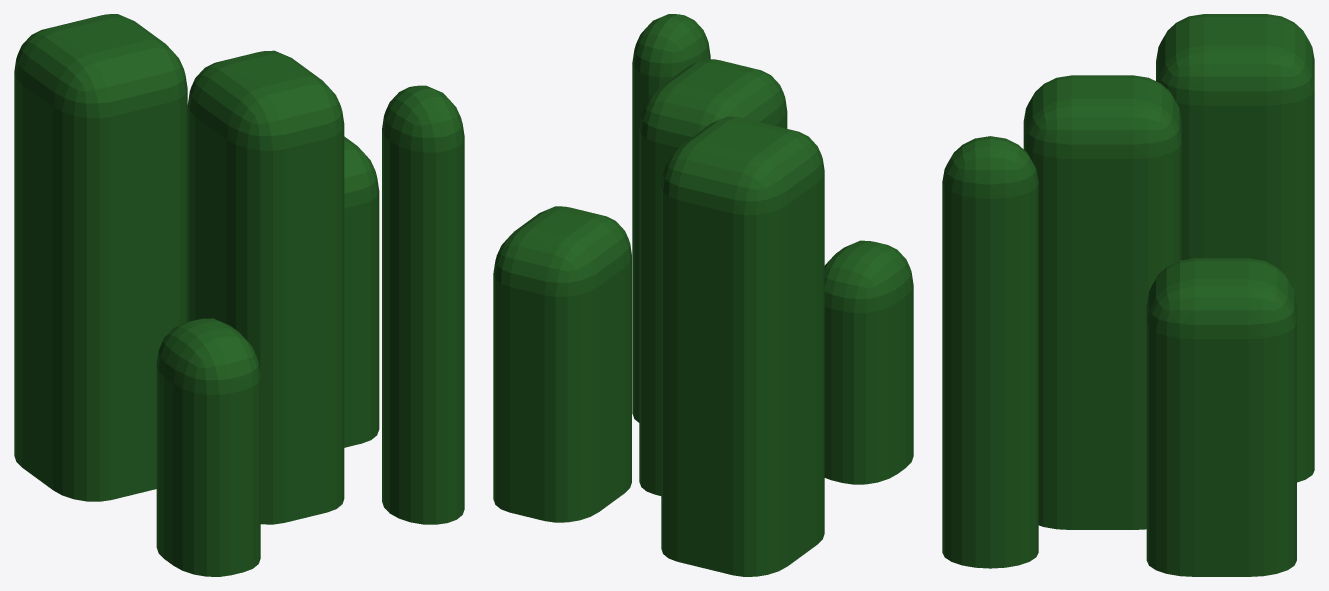
Rendered from grass.fbx.
3 views of the same model, side by side, from view 1: azimuth 30°, elevation 25°; view 2: azimuth 150°, elevation 25°; view 3: azimuth 270°, elevation 25° (orthographic). The views are drawn at different scales.
Visible parts, largest first — view 1: Cube; view 2: Cube; view 3: Cube.
Boxes of the visible parts, <box> form: Cube: <box>14,14,464,576</box>; Cube: <box>493,14,913,576</box>; Cube: <box>942,14,1314,576</box>.
Size of the model in its own units: 108 by 112 by 141.
